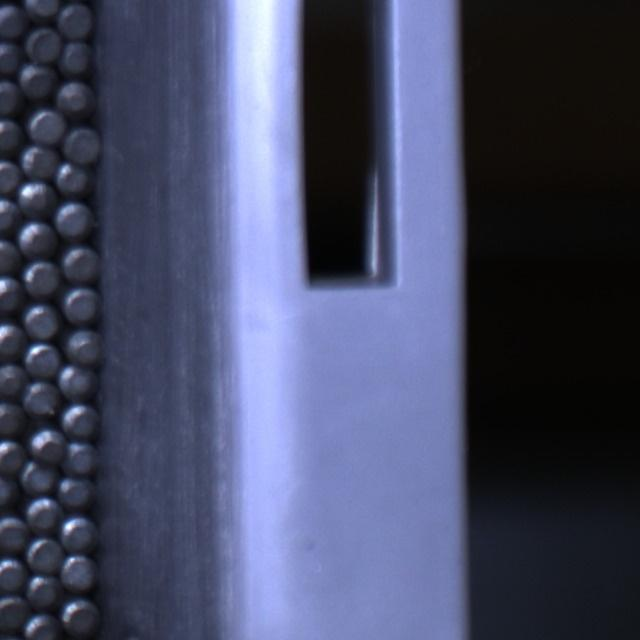tool: (60, 598, 100, 639), (58, 440, 102, 475), (55, 199, 95, 237), (59, 552, 98, 590), (60, 246, 98, 284), (62, 286, 100, 324), (62, 125, 101, 162), (54, 82, 94, 118), (29, 108, 67, 145), (60, 514, 98, 551), (19, 220, 56, 258), (58, 363, 97, 399), (55, 160, 94, 196), (60, 331, 103, 363), (61, 404, 98, 441), (58, 1, 94, 38), (22, 260, 59, 296), (26, 570, 60, 609), (22, 302, 58, 338), (18, 143, 56, 177), (24, 538, 60, 573), (22, 341, 58, 376), (28, 428, 65, 462), (19, 62, 56, 96), (23, 495, 58, 530), (24, 28, 60, 62), (22, 384, 60, 416), (61, 473, 95, 508), (61, 46, 96, 78), (23, 612, 61, 640), (24, 460, 56, 492), (0, 0, 26, 37), (0, 554, 25, 592), (0, 518, 29, 550), (0, 441, 27, 474), (0, 598, 27, 630), (0, 320, 22, 358), (0, 400, 24, 433), (0, 82, 22, 117), (24, 186, 52, 212), (0, 480, 22, 513), (0, 198, 22, 230), (0, 278, 22, 310), (0, 158, 20, 192), (0, 368, 26, 394), (22, 0, 61, 17), (0, 241, 22, 271), (0, 43, 21, 72), (0, 125, 22, 150)
